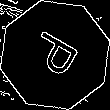P_SE: (24, 26, 86, 84)
